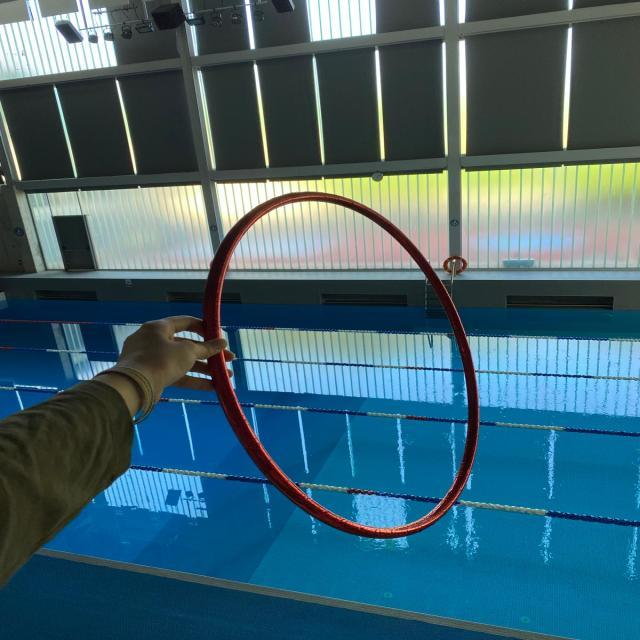Circle: (196, 190, 490, 540)
